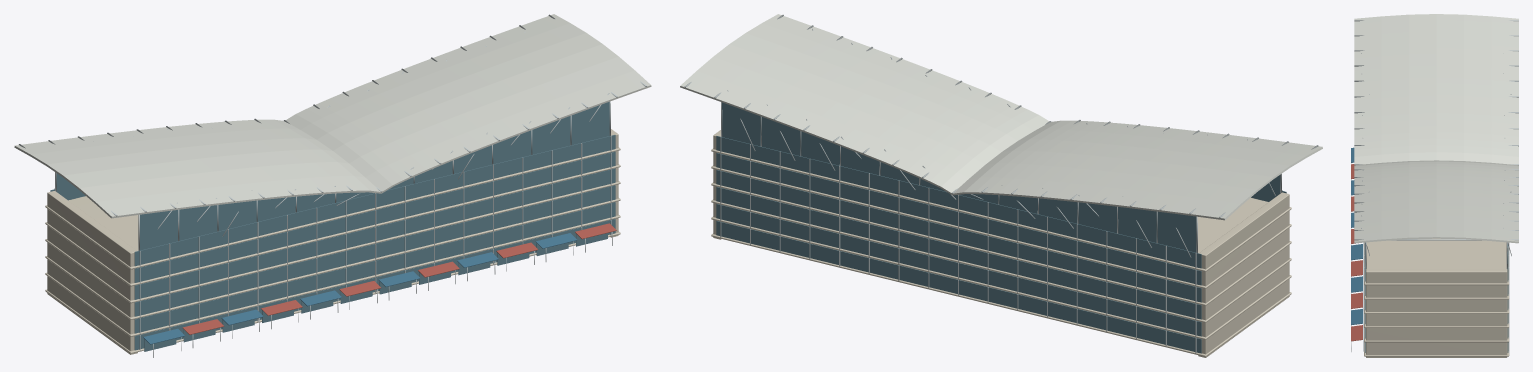
The model's file is JagalchiMarket.fbx.
3 views of the same model, side by side, from view 1: azimuth 30°, elevation 25°; view 2: azimuth 150°, elevation 25°; view 3: azimuth 270°, elevation 25° (orthographic). The views are drawn at different scales.
Visible parts, largest first — view 1: Twin rising seagull roof wings, Horizontal market glazing, Market floor band, Market facade frame, Market awning.001, Market awning; view 2: Twin rising seagull roof wings, Horizontal market glazing, Market floor band, Market facade frame; view 3: Twin rising seagull roof wings, Market floor band, Market facade frame, Market awning.001, Market awning, Horizontal market glazing.
Boxes of the visible parts, box(x1,y1,x2,y2) form: Twin rising seagull roof wings: box(14, 14, 651, 218); Horizontal market glazing: box(50, 102, 615, 351); Market floor band: box(45, 129, 620, 354); Market facade frame: box(18, 14, 646, 357); Market awning.001: box(182, 223, 616, 334); Market awning: box(143, 233, 576, 344); Twin rising seagull roof wings: box(680, 14, 1322, 220); Horizontal market glazing: box(716, 102, 1286, 353); Market floor band: box(711, 130, 1291, 357); Market facade frame: box(684, 14, 1318, 353); Twin rising seagull roof wings: box(1354, 14, 1518, 243); Market floor band: box(1364, 238, 1509, 357); Market facade frame: box(1351, 20, 1518, 351); Market awning.001: box(1351, 164, 1362, 341); Market awning: box(1351, 147, 1362, 325); Horizontal market glazing: box(1363, 243, 1508, 352).
Bounding box in the file's own units: 15100 × 4150 × 4799.
